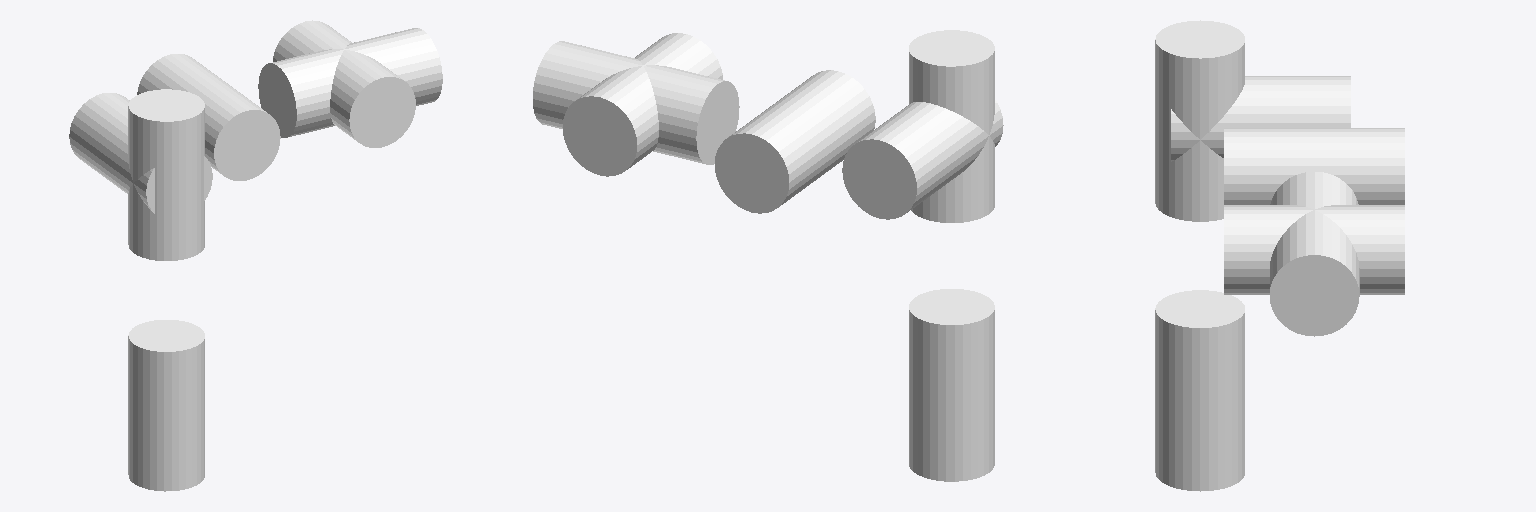
robot.urdf — puma260:
<?xml version="1.0"?>

<robot name="puma260">

    <link name="base_link">
        <visual>
            <origin xyz="0 0 0" rpy="0.0 0.0 0.0"/>
            <geometry>
                <!--<mesh filename="package://puma/link_0.stl"  />-->
                <cylinder length="0.2" radius="0.05"/>
            </geometry>
            <material name="white">
                <color rgba="1 1 1 1"/>
            </material>
        </visual>
    </link>

    <joint name="joint_1" type="revolute">
        <parent link="base_link"/>
        <child link="torso"/>
        <origin xyz="0.0 0.0 0.3302"/>
        <limit effort="1000.0" lower="-0.195774" upper="5.366298" velocity="0.5" />
        <axis xyz="0 0 1"/>
    </joint>      

    <link name="torso">
        <visual>
            <origin xyz="0.0 0.0 0.0" rpy="0.0 0.0 0.0"/>                  
            <geometry>
                <!-- <mesh filename="package://puma/link_1.stl"  /> -->
                <cylinder length="0.2" radius="0.05"/>
            </geometry>
            <material name="white">
                <color rgba="1 1 1 1"/>
            </material>
        </visual>
    </link>

    <joint name="joint_2" type="revolute">
        <parent link="torso"/>
        <child link="arm"/>
        <origin xyz="0.0 +0.067 0.0" rpy="1.5708 0 0"/>
        <limit effort="1000.0" lower="-4.77369" upper="0.84636" velocity="0.5" />
        <axis xyz="0 0 1"/>
    </joint> 

    <link name="arm">
        <visual>
            <origin xyz="0.0 0.0 0.0" rpy="0.0 0.0 0.0"/>                  
            <geometry>
                <!-- <mesh filename="package://puma/link_2.stl"  /> -->
                <cylinder length="0.2" radius="0.05"/>
            </geometry> 
            <material name="white">
                <color rgba="1 1 1 1"/>
            </material>
        </visual>

    </link>

    <joint name="joint_3" type="revolute">
        <parent link="arm"/>
        <child link="forearm"/>
        <origin xyz="0.1362 0.0 -0.0597" rpy="0 0 0"/>
        <limit effort="1000.0" lower="-4.401754" upper="0.761536" velocity="0.5" />
        <axis xyz="0 0 1"/>
    </joint> 

    <link name="forearm">
        <visual>
            <origin xyz="0.0 0.0 0.0" rpy="0.0 0.0 1.5708"/>                  
            <geometry>
                <!-- <mesh filename="package://puma/link_3.stl"  /> -->
                <cylinder length="0.2" radius="0.05"/>
            </geometry>
            <material name="white">
                <color rgba="1 1 1 1"/>
            </material>
        </visual>
    </link>
    <joint name="joint_4" type="revolute">
        <parent link="forearm"/>
        <child link="link_dummy_1"/>
        <origin xyz="0.2032 0.0 0.0" rpy="0 1.5708 0"/>
        <limit effort="1000.0" lower="-8.727639" upper="2.425219" velocity="0.5" />
        <axis xyz="0 0 1"/>
    </joint> 

    <link name="link_dummy_1">
        <visual>
            <origin xyz="0.0 0.0 0.0" rpy="0.0 0.0 0.0"/>                  
            <geometry>
                <!-- <mesh filename="package://puma/link_4.stl"  /> -->
                <cylinder length="0.2" radius="0.05"/>
            </geometry>
            <material name="white">
                <color rgba="1 1 1 1"/>
            </material>
        </visual>
    </link>
    <joint name="joint_5" type="revolute">
        <parent link="link_dummy_1"/>
        <child link="link_dummy_2"/>
        <origin xyz="0.0 0.0 0.0" rpy="0 1.5708 0"/>
        <limit effort="1000.0" lower="-3.154507" upper="3.955906" velocity="0.5" />
        <axis xyz="0 0 1"/>
    </joint> 

    <link name="link_dummy_2">
        <visual>
            <origin xyz="0.0 0.0 0.0" rpy="0.0 0.0 -1.5708"/>                  
            <geometry>
                <!-- <mesh filename="package://puma/link_5.stl"  /> -->
                <cylinder length="0.2" radius="0.05"/>
            </geometry> 
            <material name="white">
                <color rgba="1 1 1 1"/>
            </material>
        </visual>
    </link>
    <joint name="joint_6" type="revolute">
        <parent link="link_dummy_2"/>
        <child link="end_effector"/>
        <origin xyz="-0.019 0.0 0.0" rpy="0 -1.5708 0"/>
        <limit effort="1000.0" lower="-3.123938" upper="8.313073" velocity="0.5" />
        <axis xyz="0 0 1"/>
    </joint> 
    <link name="end_effector">
        <visual>
            <origin xyz="0.0 0.0 0.0" rpy="0.0 0.0 0.0"/>                  
            <geometry>
                <!--  <mesh filename="package://puma/link_6.stl"  /> -->
		<cylinder length="0.2" radius="0.05"/>
            </geometry>
            <material name="white">
                <color rgba="1 1 1 1"/>
            </material>
        </visual>
    </link>
</robot>

--- What the picture shows (computed from the rendered views, not written in the file) ---
3 views of the same robot in one strip: view 1: azimuth 30°, elevation 25°; view 2: azimuth 150°, elevation 25°; view 3: azimuth 270°, elevation 25° (orthographic).
Robot: puma260 — 7 links, 6 joints (6 revolute); root link base_link; default pose: all joints at 0.
Visible links, largest first — view 1: base_link, torso, link_dummy_2, forearm, link_dummy_1, arm, end_effector; view 2: base_link, forearm, arm, torso, link_dummy_2, end_effector, link_dummy_1; view 3: base_link, torso, forearm, link_dummy_2, end_effector, arm, link_dummy_1.
Link boxes in pixels (box(x1,y1,x2,y2)): base_link: box(128, 320, 204, 491); torso: box(128, 89, 204, 260); link_dummy_2: box(273, 20, 415, 147); forearm: box(137, 54, 280, 180); link_dummy_1: box(258, 31, 429, 137); arm: box(69, 93, 212, 213); end_effector: box(286, 28, 442, 104); base_link: box(909, 289, 994, 481); forearm: box(715, 70, 875, 213); arm: box(842, 100, 1003, 219); torso: box(909, 30, 994, 222); link_dummy_2: box(563, 33, 722, 176); end_effector: box(533, 41, 707, 160); link_dummy_1: box(569, 44, 739, 164); base_link: box(1155, 290, 1244, 491); torso: box(1155, 20, 1244, 221); forearm: box(1224, 128, 1404, 204); link_dummy_2: box(1224, 205, 1404, 294); end_effector: box(1270, 179, 1359, 336); arm: box(1171, 76, 1350, 161); link_dummy_1: box(1270, 172, 1358, 279).
Bounding box of the posed robot: 0.5084 × 0.2767 × 0.5302 m (x, y, z).
Geometry: primitives only (box / cylinder / sphere), no mesh files.
